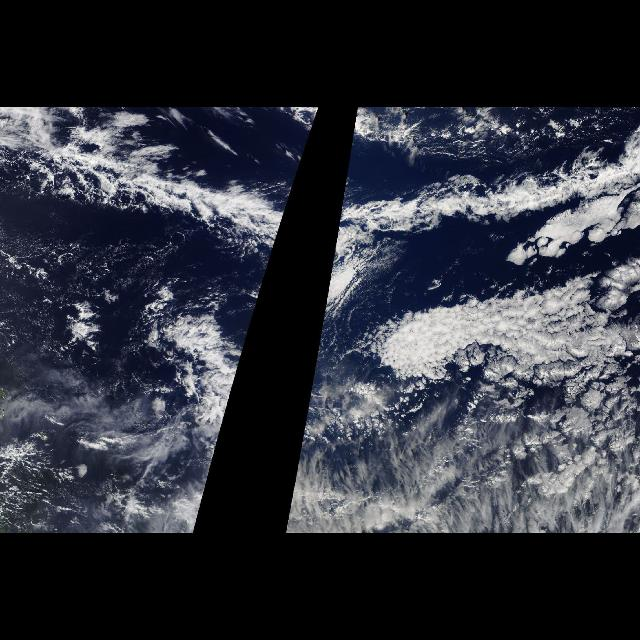Fish: (0, 110, 314, 330), (320, 122, 640, 330)
Flower: (434, 331, 640, 513)
Gravel: (1, 229, 195, 527)
